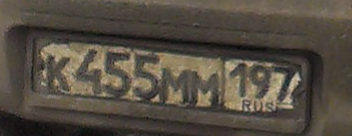character: (74, 44, 104, 95), (134, 48, 160, 103), (105, 48, 133, 98), (190, 67, 220, 111), (161, 66, 191, 107), (44, 52, 73, 94), (273, 63, 296, 102), (250, 61, 272, 100), (229, 60, 249, 102)
